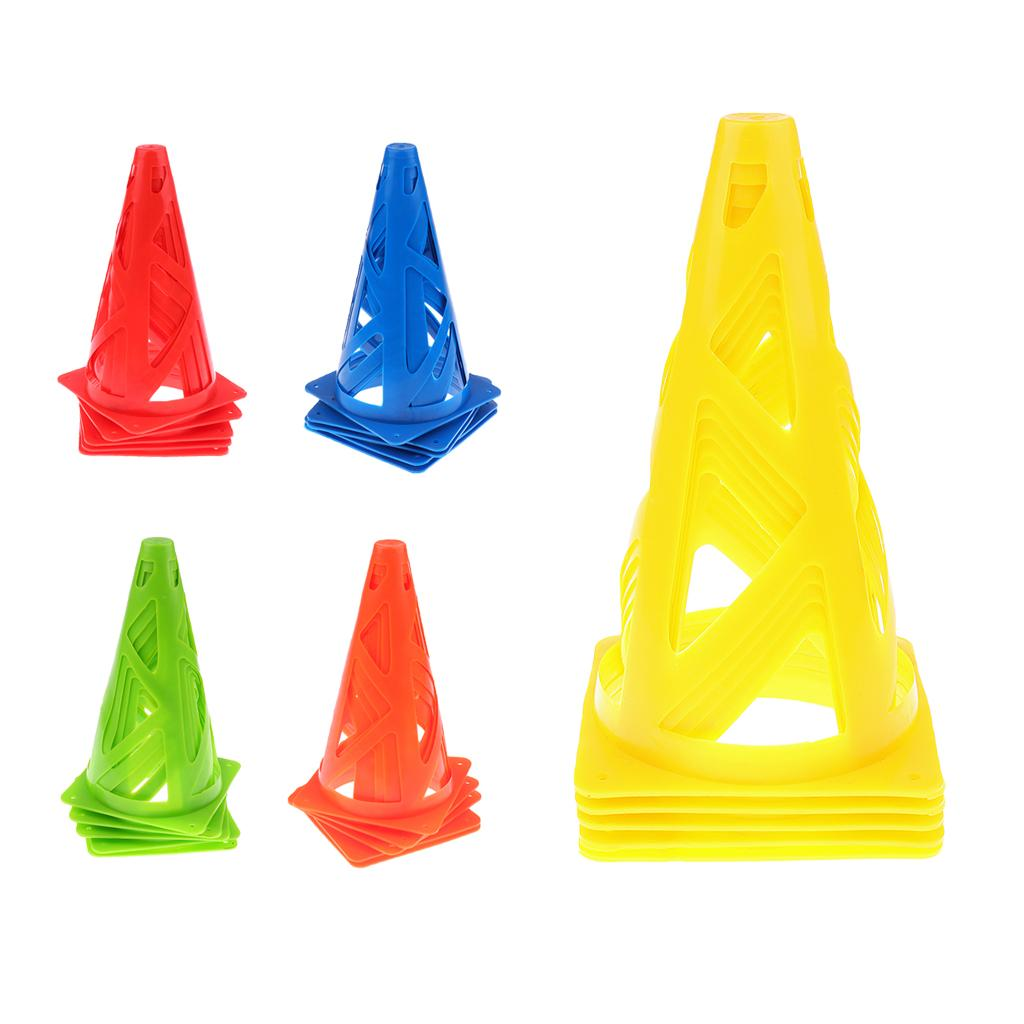yellowC: (544, 114, 971, 900)
